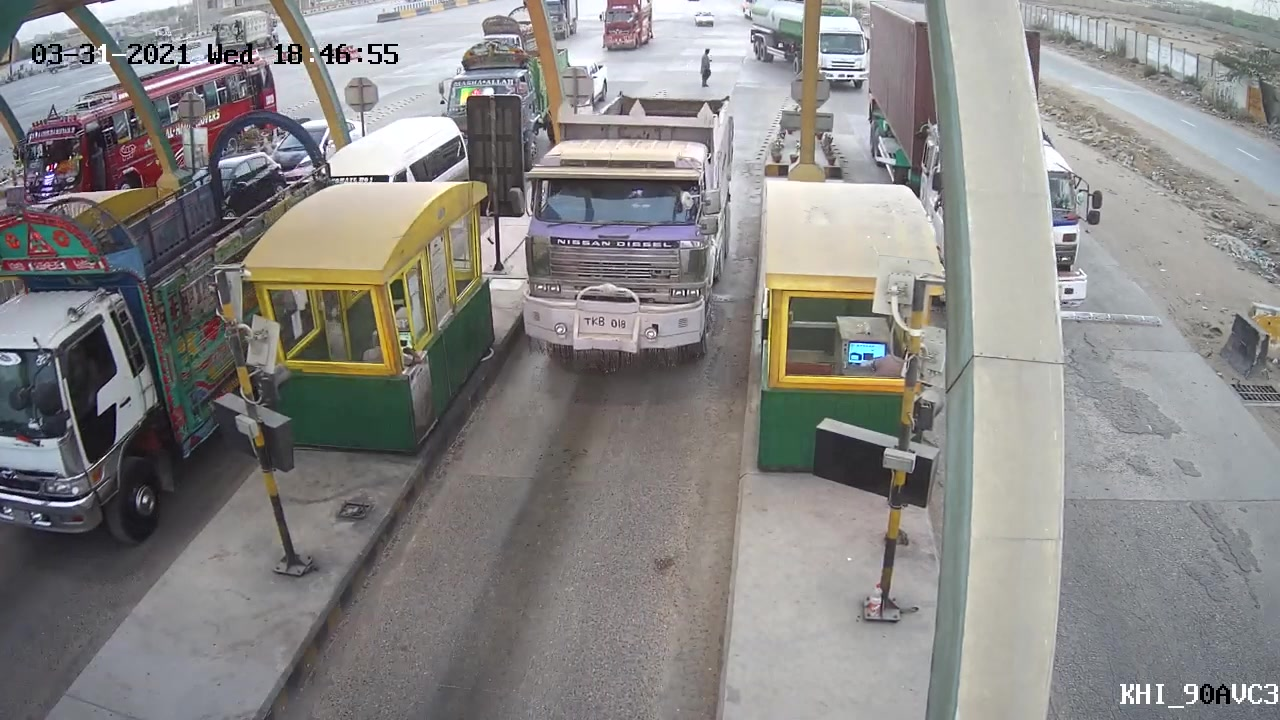F5: (502, 88, 768, 380)
